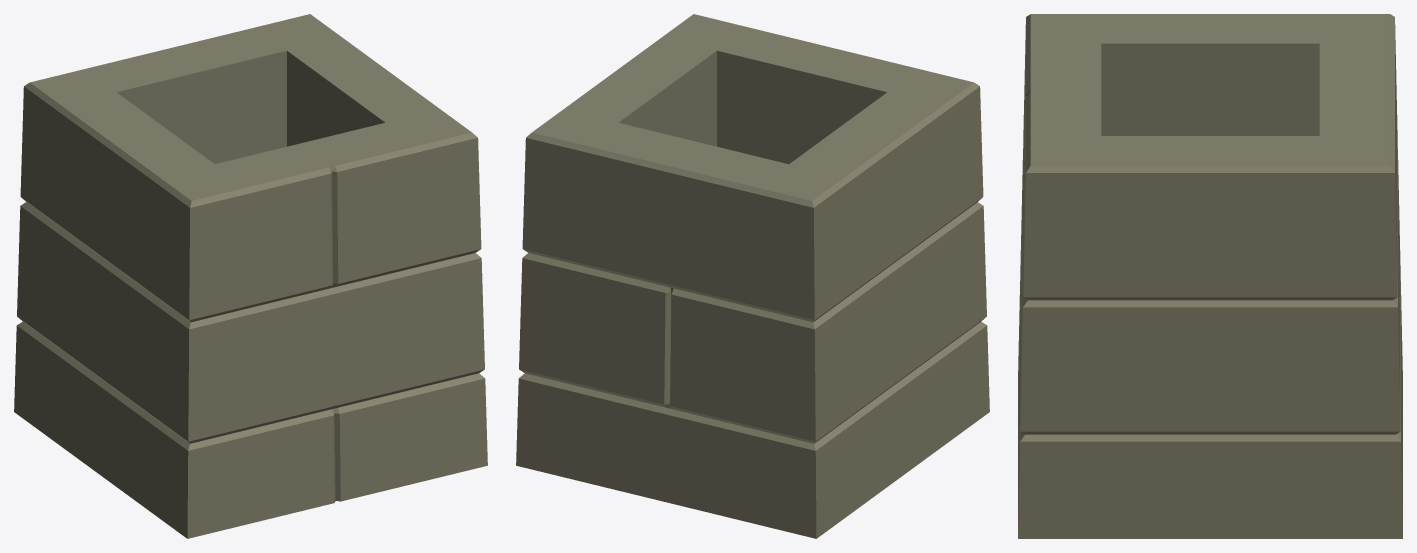
The model's file is Wall_Tower_build_mat.fbx.
3 views of the same model, side by side, from view 1: azimuth 30°, elevation 25°; view 2: azimuth 150°, elevation 25°; view 3: azimuth 270°, elevation 25° (orthographic). The views are drawn at different scales.
Visible parts, largest first — view 1: Wall_Tower_build_mat; view 2: Wall_Tower_build_mat; view 3: Wall_Tower_build_mat.
Boxes of the visible parts, x1,y1,x2,y2 form: Wall_Tower_build_mat: (14, 14, 487, 538); Wall_Tower_build_mat: (516, 14, 989, 538); Wall_Tower_build_mat: (1018, 14, 1402, 538).
Bounding box in the file's own units: 122 × 129 × 122.
